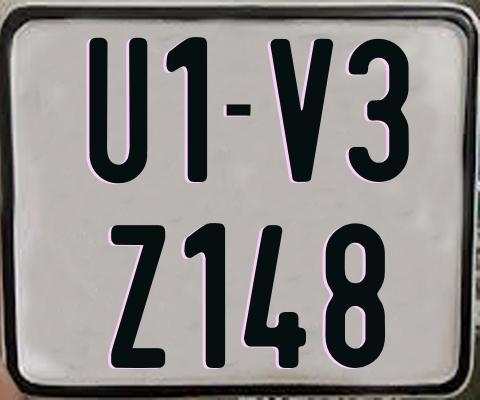1: (164, 37, 206, 183), (181, 220, 222, 367)
3: (349, 38, 413, 184)
4: (243, 224, 311, 368)
8: (323, 220, 385, 370)
U: (86, 35, 146, 181)
V: (269, 36, 336, 184)
Z: (110, 224, 166, 369)
